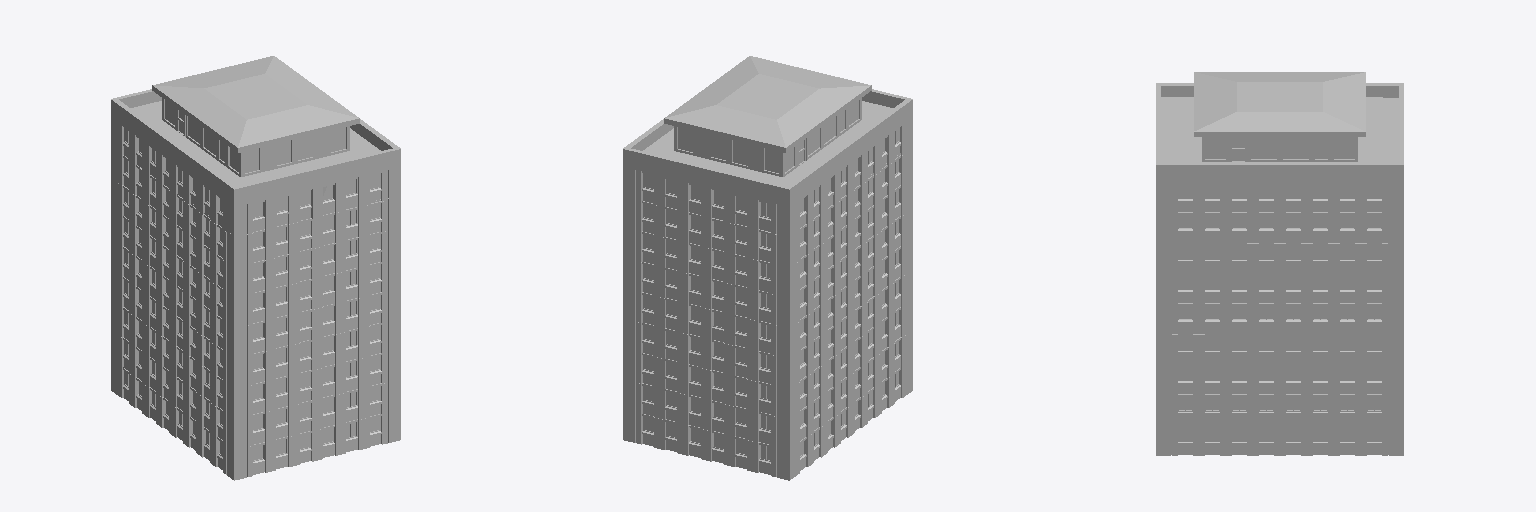
The model's file is business building.obj.
3 views of the same model, side by side, from view 1: azimuth 30°, elevation 25°; view 2: azimuth 150°, elevation 25°; view 3: azimuth 270°, elevation 25° (orthographic).
Parts seen in each view (by area): view 1: building, windows, roof, frame, upper, walls; view 2: building, windows, roof, frame, upper, walls; view 3: building, windows, roof, upper, frame, walls.
Part boxes in pixels (x1,y1,x2,y2): building: (111, 89, 400, 480); windows: (125, 100, 379, 460); roof: (152, 56, 359, 152); frame: (124, 128, 380, 461); upper: (131, 101, 380, 185); walls: (162, 98, 349, 176); building: (623, 89, 912, 480); windows: (644, 100, 898, 460); roof: (664, 56, 871, 152); frame: (643, 128, 899, 461); upper: (643, 101, 892, 185); walls: (674, 98, 861, 176); building: (1156, 83, 1403, 455); windows: (1179, 137, 1380, 440); roof: (1194, 72, 1365, 136); upper: (1161, 97, 1398, 161); frame: (1178, 184, 1381, 441); walls: (1202, 137, 1357, 161).
Size of the model in its own units: 8.65 by 15.73 by 11.08.